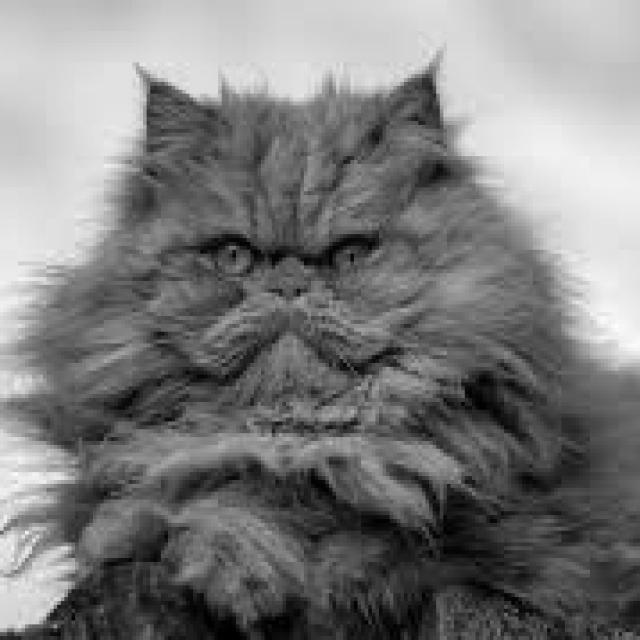iran: (121, 147, 463, 417)
